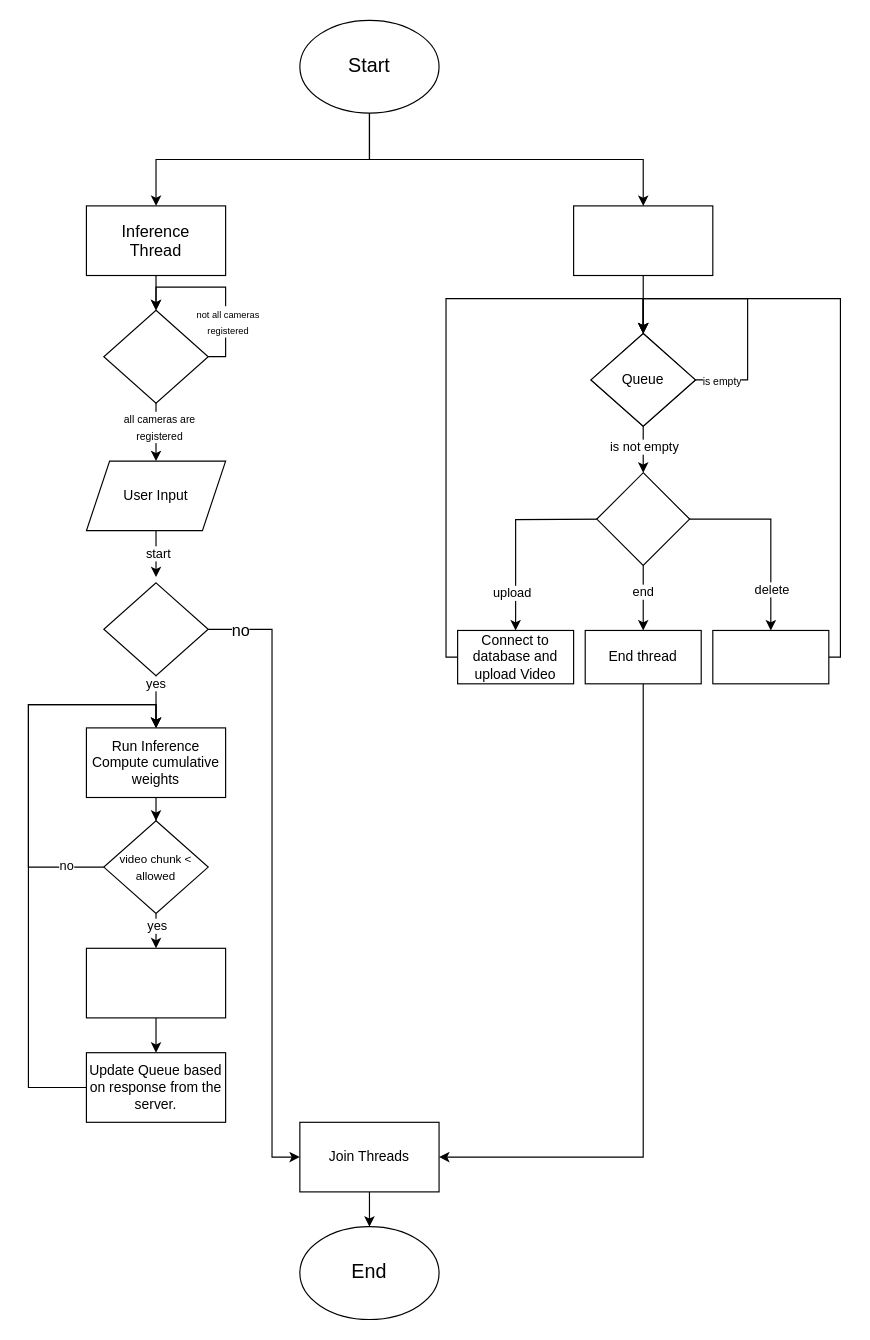
Some shapes in this 870 by 1340 pixel diagram are drawn without their labels. The box of each missing label's shape, as (x1, y1, x2, y2) in pixels:
Delete Video: (712, 629, 829, 684)
Get decision: (596, 472, 690, 566)
Register Cameras: (103, 309, 208, 403)
Send cumulative weight to server.Then reset the weights: (85, 947, 226, 1018)
Time < total: (103, 582, 208, 676)
Upload/Delete Thread: (572, 205, 713, 276)
